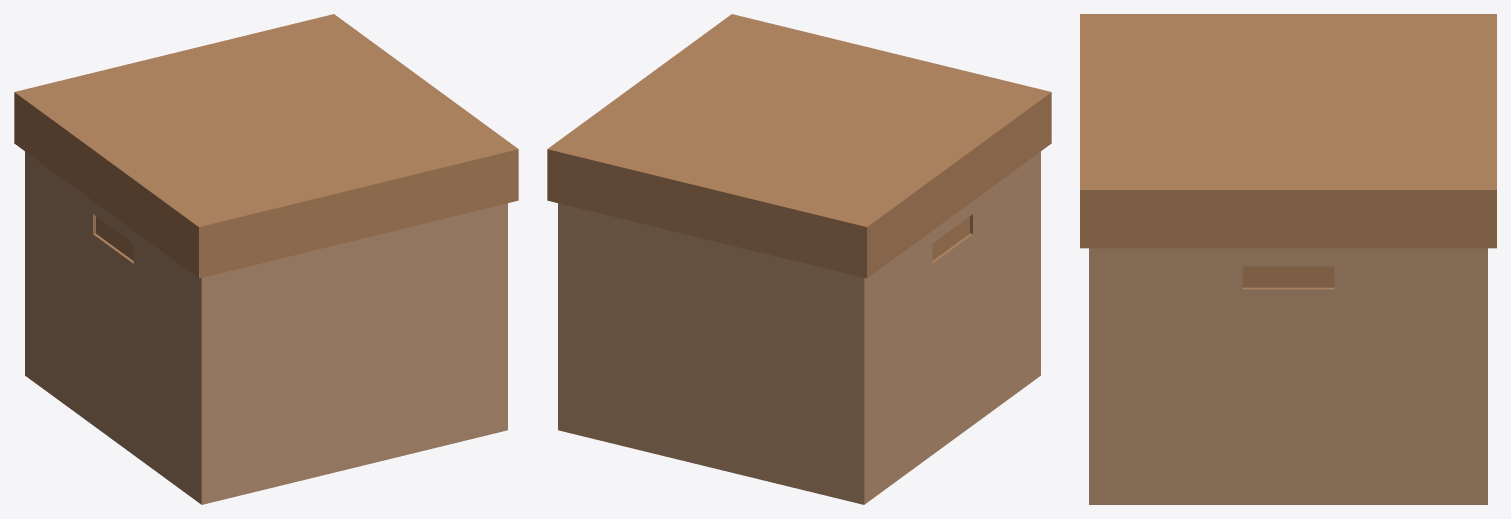
The model's file is SM_Props_Box_05.fbx.
The picture shows the model from 3 angles, left to right: view 1: azimuth 30°, elevation 25°; view 2: azimuth 150°, elevation 25°; view 3: azimuth 270°, elevation 25°; orthographic projection. The views are drawn at different scales.
Visible parts, largest first — view 1: SM_Props_Box_05; view 2: SM_Props_Box_05; view 3: SM_Props_Box_05.
Boxes of the visible parts, left/top/right/bottom form: SM_Props_Box_05: left=14, top=14, right=518, bottom=504; SM_Props_Box_05: left=547, top=14, right=1051, bottom=504; SM_Props_Box_05: left=1080, top=14, right=1496, bottom=504.
Size of the model in its own units: 0.3379 by 0.2851 by 0.3379.
